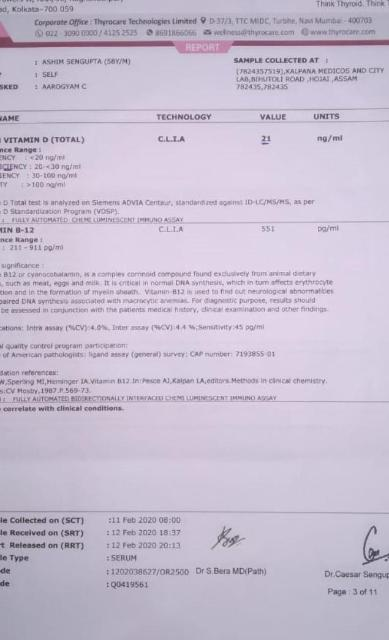Clinical_Conditions: (1, 261, 341, 319)
Name: (40, 56, 133, 66)
Ref_By: (40, 68, 64, 79)
Technology: (153, 132, 195, 150), (156, 222, 189, 237)
Test_Asked: (40, 82, 94, 92)
Test_Name: (0, 130, 95, 194), (0, 225, 65, 256)
Unit: (316, 131, 348, 150), (316, 223, 347, 242)
Value: (257, 132, 280, 150), (260, 223, 284, 239)
